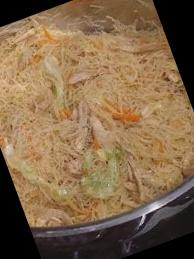pancit bihon: (0, 27, 193, 224)
